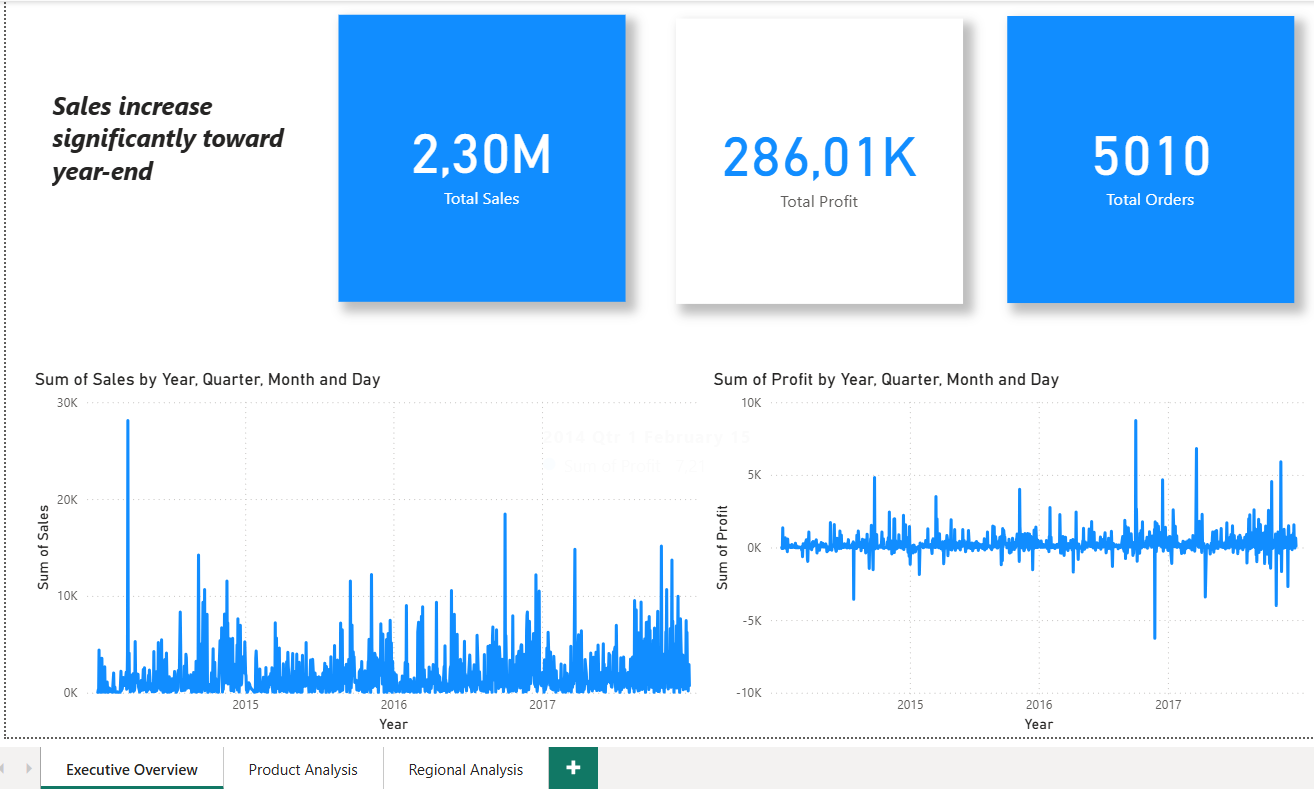

The dashboard page shown, as its layout file describes it:
{"tool":"powerbi","page":{"name":"Executive Overview","canvas":[1280,720],"ordinal":0},"visuals":[{"type":"card","fields":{"Values":["Cleaned Data.Total Sales"]},"box":[325.9,13.4,280.5,280.5],"z":0},{"type":"card","fields":{"Values":["Cleaned Data.Total Profit"]},"box":[655.1,16.8,280.5,278.8],"z":1000},{"type":"card","fields":{"Values":["Cleaned Data.Total Orders"]},"box":[979.3,15.1,280.5,280.5],"z":2000},{"type":"lineChart","fields":{"Category":["Cleaned Data.Order Date.Variation.Date Hierarchy.Year","Cleaned Data.Order Date.Variation.Date Hierarchy.Quarter","Cleaned Data.Order Date.Variation.Date Hierarchy.Month","Cleaned Data.Order Date.Variation.Date Hierarchy.Day"],"Y":["Sum(Cleaned Data.Sales)"]},"box":[23.5,359.5,663.5,361.2],"z":3000},{"type":"lineChart","fields":{"Category":["Cleaned Data.Order Date.Variation.Date Hierarchy.Year","Cleaned Data.Order Date.Variation.Date Hierarchy.Quarter","Cleaned Data.Order Date.Variation.Date Hierarchy.Month","Cleaned Data.Order Date.Variation.Date Hierarchy.Day"],"Y":["Sum(Cleaned Data.Profit)"]},"box":[687,359.5,593,361.2],"z":4000},{"type":"textbox","box":[40.3,80.6,252,120.9],"z":5000}]}

Visuals, with their boxes on the page's 1280x720 design canvas (x1, y1, x2, y2). These are canvas units, not pixel positions in the 1314x789 screenshot, which may show the page scaled, cropped or inside an application window:
card - Cleaned Data.Total Sales: locate(326, 13, 606, 294)
card - Cleaned Data.Total Profit: locate(655, 17, 936, 296)
card - Cleaned Data.Total Orders: locate(979, 15, 1260, 296)
lineChart - Cleaned Data.Order Date.Variation.Date Hierarchy.Year x Cleaned Data.Order Date.Variation.Date Hierarchy.Quarter: locate(24, 360, 687, 721)
lineChart - Cleaned Data.Order Date.Variation.Date Hierarchy.Year x Cleaned Data.Order Date.Variation.Date Hierarchy.Quarter: locate(687, 360, 1280, 721)
textbox: locate(40, 81, 292, 202)
